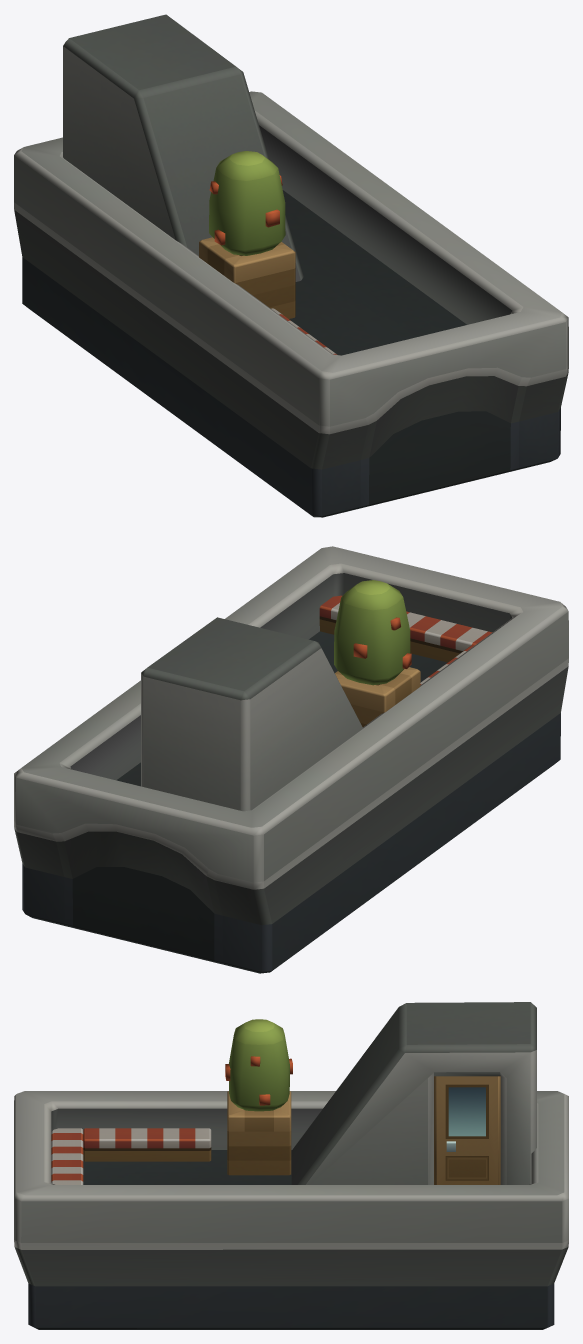
File: appartment_type1_roof_type1_x2_flat_cream_deco.fbx
3 renders of one model, top to bottom at view 1: azimuth 30°, elevation 25°; view 2: azimuth 150°, elevation 25°; view 3: azimuth 270°, elevation 25°, orthographic. The views are drawn at different scales.
Visible parts, largest first — view 1: appartment_type1_roof_type1_x2_flat_cream_deco; view 2: appartment_type1_roof_type1_x2_flat_cream_deco; view 3: appartment_type1_roof_type1_x2_flat_cream_deco, door_wood_rooftop_doorway.
Part boxes in pixels (<box>): appartment_type1_roof_type1_x2_flat_cream_deco: <box>14,14,568,517</box>; appartment_type1_roof_type1_x2_flat_cream_deco: <box>14,546,568,973</box>; appartment_type1_roof_type1_x2_flat_cream_deco: <box>14,1002,568,1329</box>; door_wood_rooftop_doorway: <box>434,1076,500,1184</box>.
Bounding box in the file's own units: 400 × 410 × 867.
